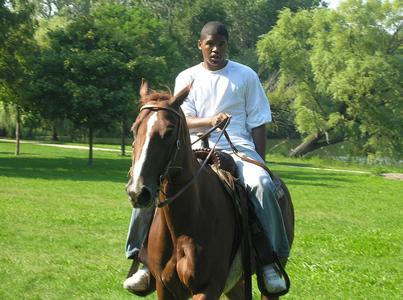person: (126, 19, 286, 294)
